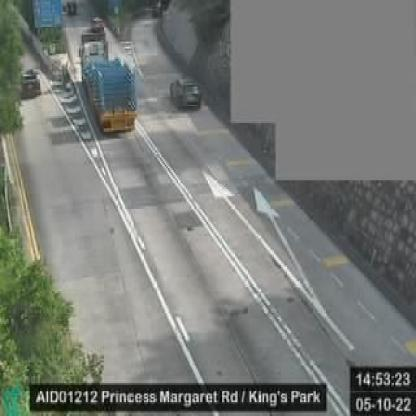Car: (171, 75, 202, 109), (18, 69, 42, 97)
Truck: (76, 28, 138, 130)
